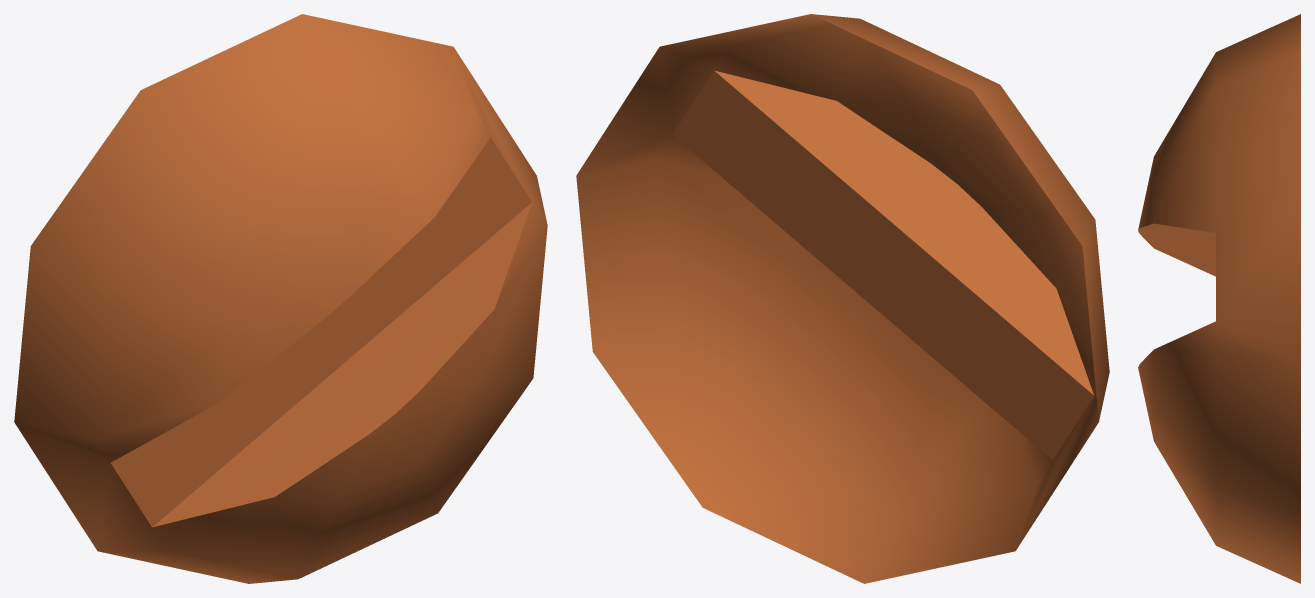
Rendered from Screw.fbx.
3 views of the same model, side by side, from view 1: azimuth 30°, elevation 25°; view 2: azimuth 150°, elevation 25°; view 3: azimuth 270°, elevation 25° (orthographic). The views are drawn at different scales.
Parts seen in each view (by area): view 1: Screw; view 2: Screw; view 3: Screw.
Boxes of the visible parts, left/top/right/bottom form: Screw: left=14, top=14, right=547, bottom=583; Screw: left=576, top=14, right=1109, bottom=583; Screw: left=1138, top=14, right=1300, bottom=583.
Bounding box in the file's own units: 0.2277 × 0.2318 × 0.0663.
